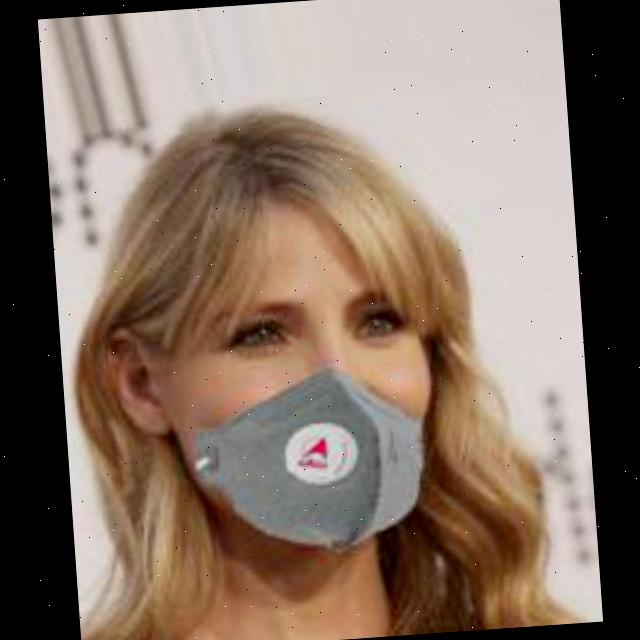suspicion: (99, 100, 461, 574)
